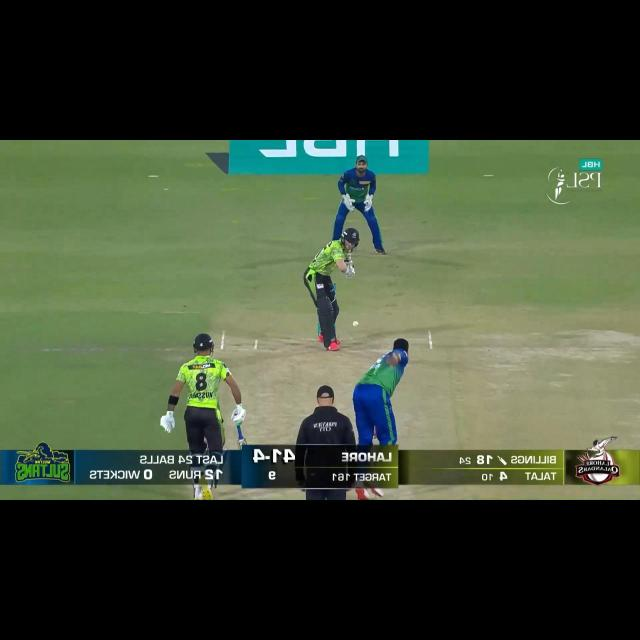bat: (237, 437, 248, 449), (345, 251, 352, 260)
